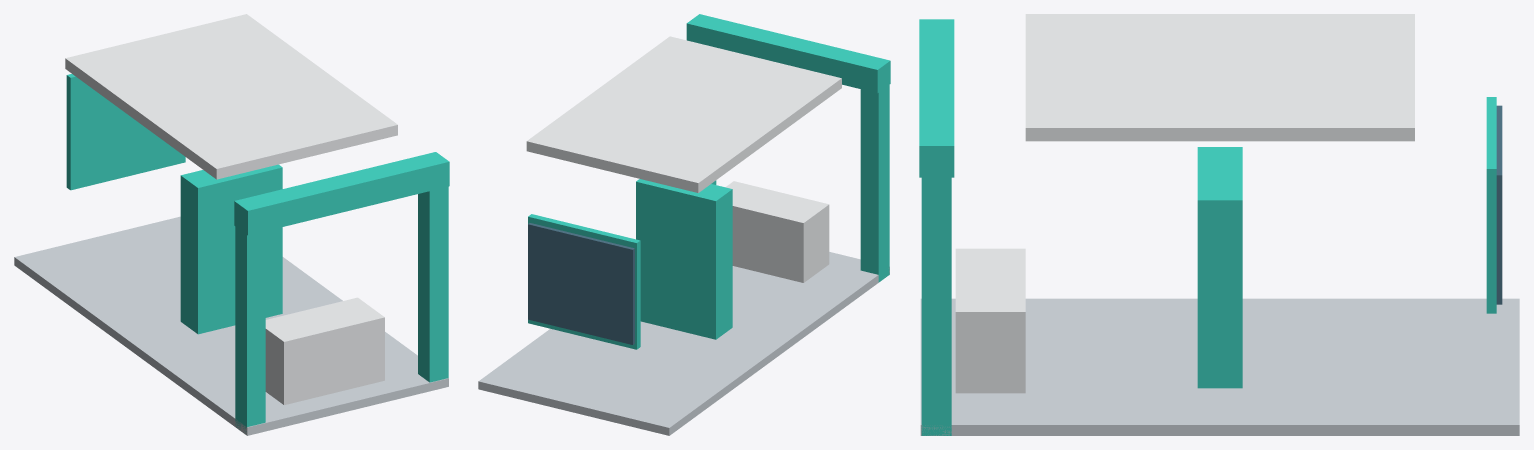
3 views of the same model, side by side, from view 1: azimuth 30°, elevation 25°; view 2: azimuth 150°, elevation 25°; view 3: azimuth 270°, elevation 25° (orthographic). The views are drawn at different scales.
Parts seen in each view (by area): view 1: Exhibition Booth Concept; view 2: Exhibition Booth Concept; view 3: Exhibition Booth Concept.
Boxes of the visible parts, bbox=[...] form: Exhibition Booth Concept: bbox=[14, 14, 449, 435]; Exhibition Booth Concept: bbox=[478, 14, 890, 435]; Exhibition Booth Concept: bbox=[919, 14, 1519, 435].
Size of the model in its own units: 3 by 3.34 by 6.02.
